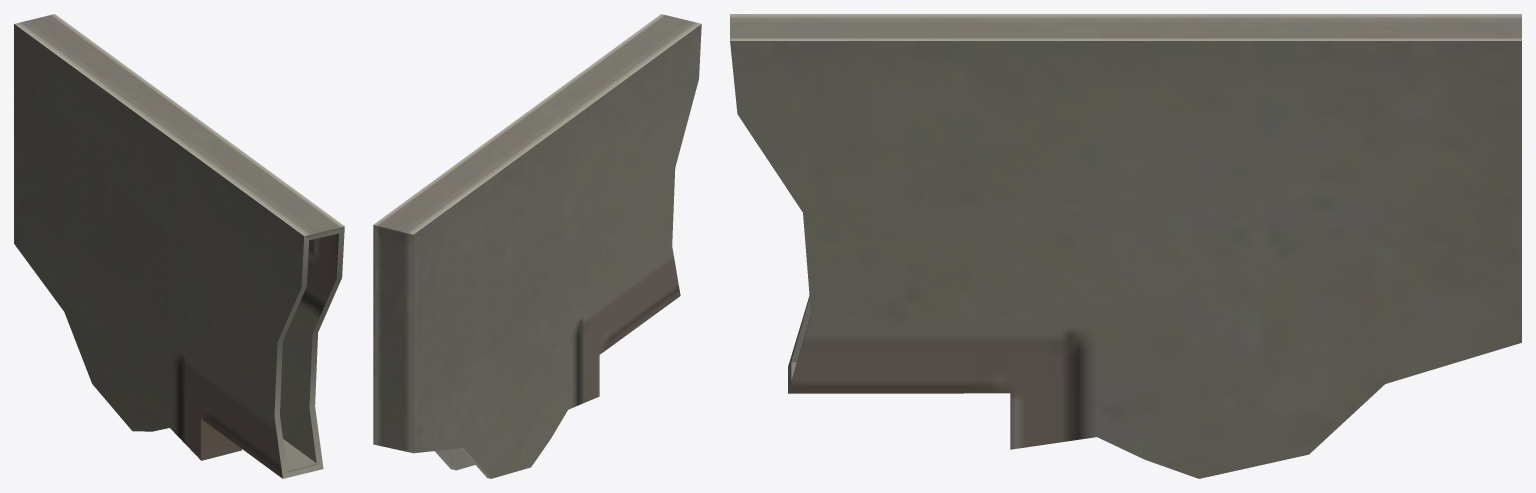
Rendered from doormainmetalwindow01_dm08_d.glb.
The picture shows the model from 3 angles, left to right: view 1: azimuth 30°, elevation 25°; view 2: azimuth 150°, elevation 25°; view 3: azimuth 270°, elevation 25°; orthographic projection. The views are drawn at different scales.
Parts seen in each view (by area): view 1: doormainmetalwindow01_dm08_d; view 2: doormainmetalwindow01_dm08_d; view 3: doormainmetalwindow01_dm08_d.
Boxes of the visible parts, x1=… form: doormainmetalwindow01_dm08_d: x1=14, y1=14, x2=344, y2=478; doormainmetalwindow01_dm08_d: x1=373, y1=14, x2=701, y2=478; doormainmetalwindow01_dm08_d: x1=730, y1=14, x2=1521, y2=478.
Bounding box in the file's own units: 0.0382 × 0.2882 × 0.4724.
1 material, 1 textured.
